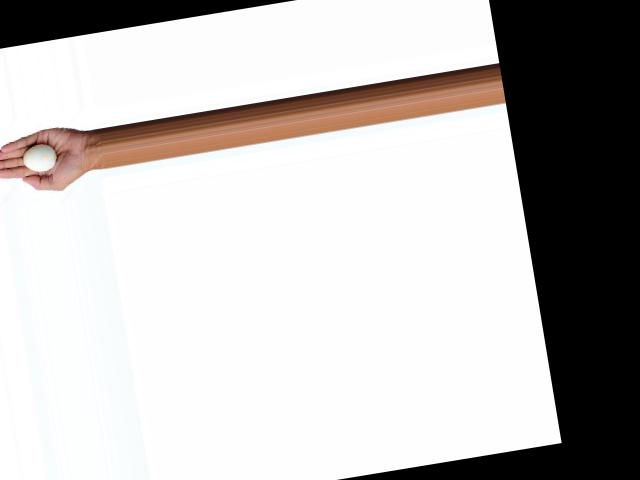egg: (20, 142, 57, 173)
